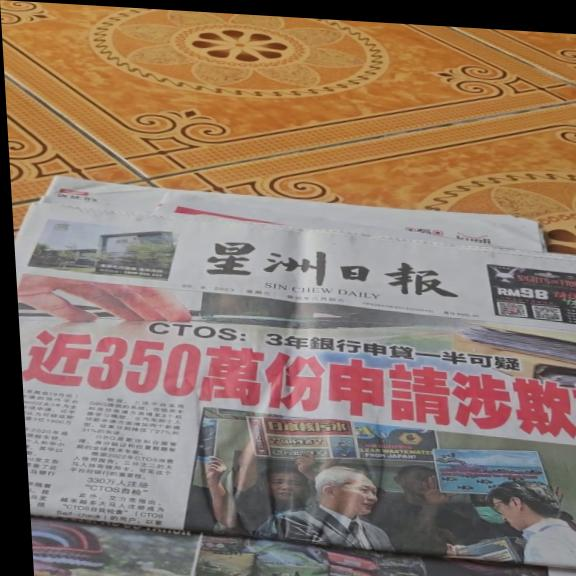Kertas: (14, 184, 576, 576)
